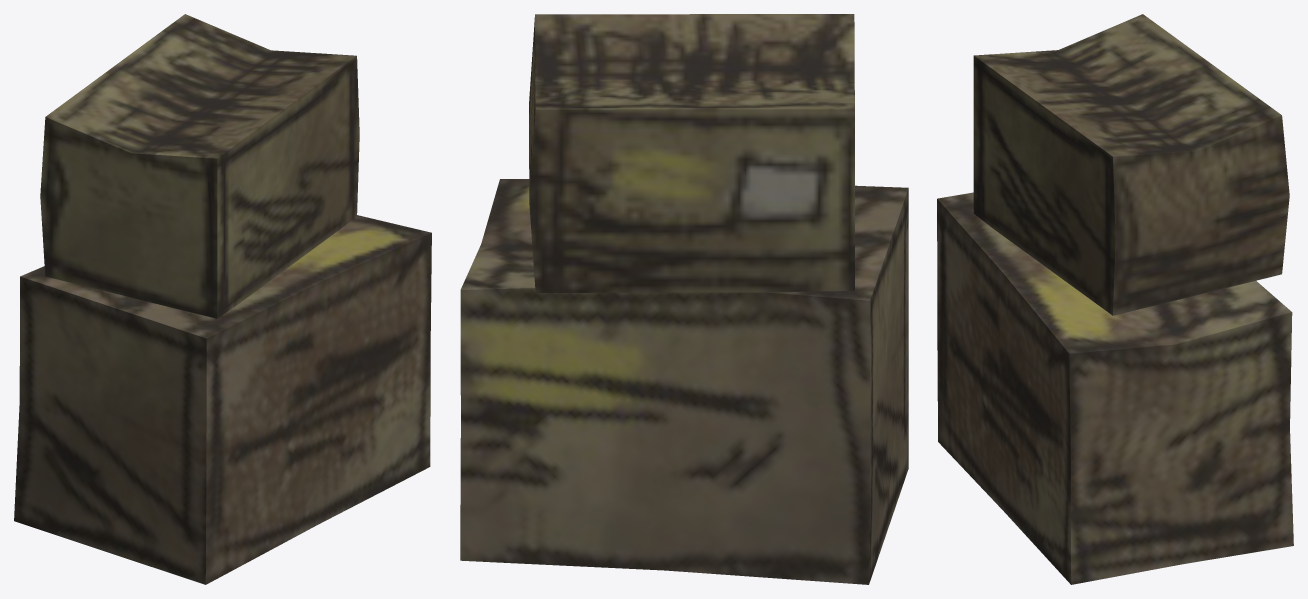
File: boxgame.fbx
The picture shows the model from 3 angles, left to right: view 1: azimuth 30°, elevation 25°; view 2: azimuth 150°, elevation 25°; view 3: azimuth 270°, elevation 25°; orthographic projection. The views are drawn at different scales.
Visible parts, largest first — view 1: Boxes.010; view 2: Boxes.010; view 3: Boxes.010.
Part boxes in pixels (bbox=[...]): Boxes.010: bbox=[14, 14, 431, 584]; Boxes.010: bbox=[460, 14, 908, 584]; Boxes.010: bbox=[937, 14, 1293, 584].
Size of the model in its own units: 43.11 by 45.32 by 36.36.
